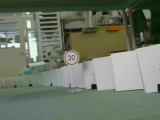speed_30: (63, 50, 81, 66)
